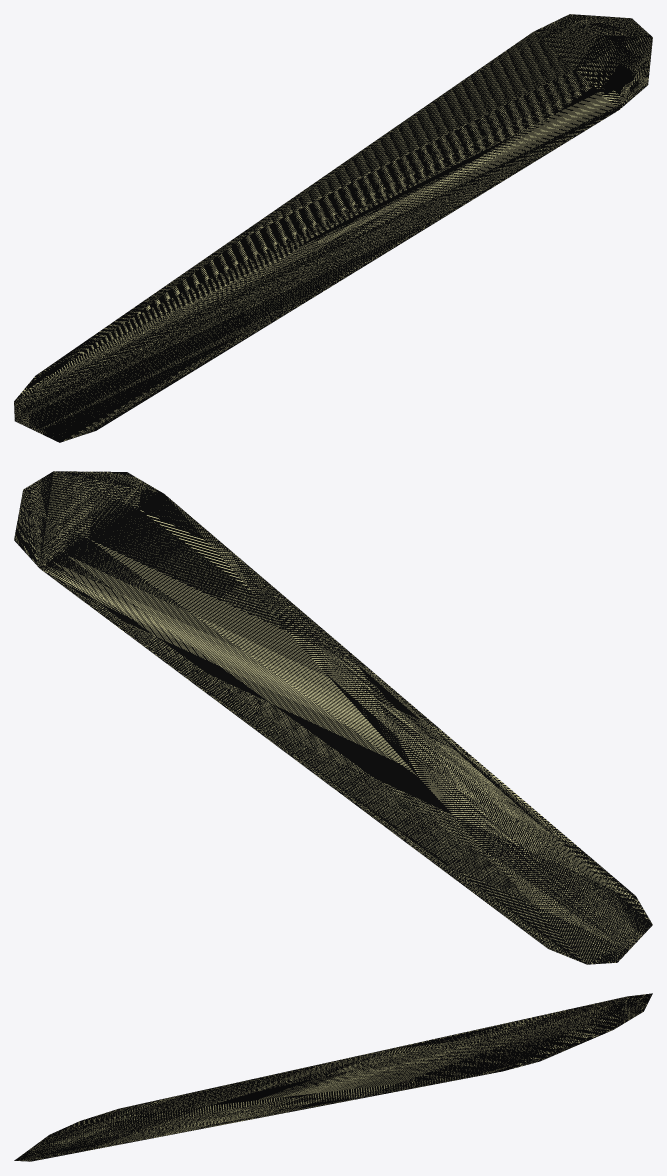
File: original-29.obj
3 renders of one model, top to bottom at view 1: azimuth 30°, elevation 25°; view 2: azimuth 150°, elevation 25°; view 3: azimuth 330°, elevation 25°, orthographic. The views are drawn at different scales.
Parts seen in each view (by area): view 1: mesh46/mesh46-geometry#mesh46-geometry; view 2: mesh46/mesh46-geometry#mesh46-geometry; view 3: mesh46/mesh46-geometry#mesh46-geometry.
Boxes of the visible parts, left/top/right/bottom form: mesh46/mesh46-geometry#mesh46-geometry: left=14, top=14, right=652, bottom=442; mesh46/mesh46-geometry#mesh46-geometry: left=14, top=471, right=652, bottom=964; mesh46/mesh46-geometry#mesh46-geometry: left=14, top=993, right=652, bottom=1161.
Size of the model in its own units: 0.0568 by 0.0259 by 0.0186.
